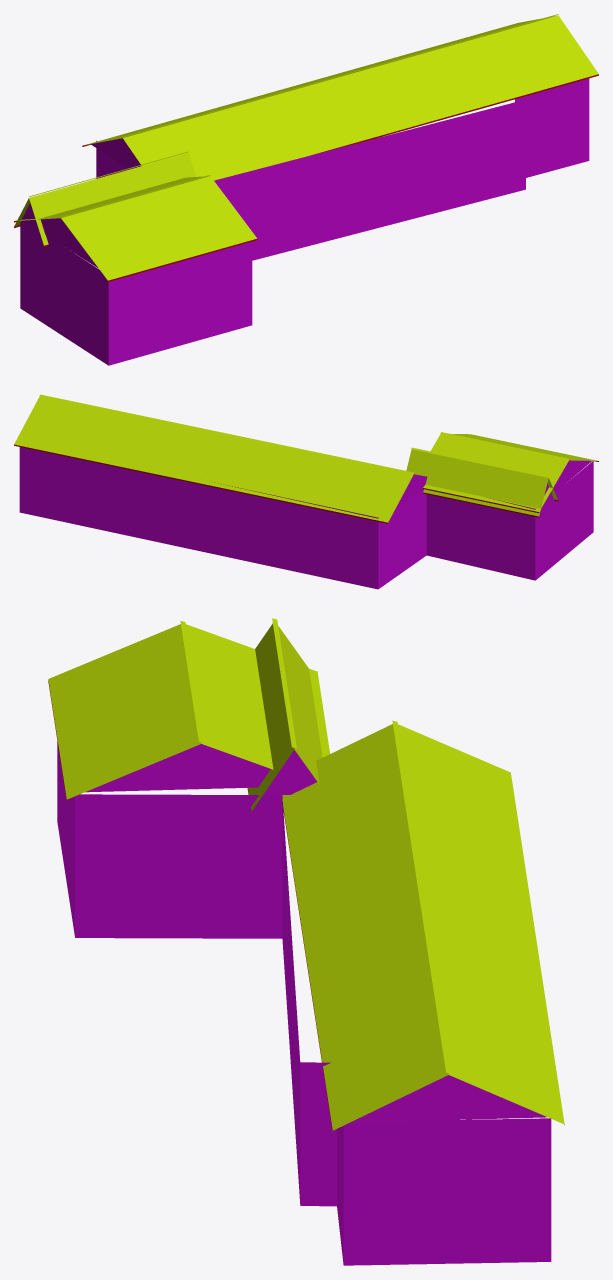
File: srz_32.glb
3 views of the same model, one above another, from view 1: azimuth 30°, elevation 25°; view 2: azimuth 150°, elevation 25°; view 3: azimuth 270°, elevation 25° (orthographic). The views are drawn at different scales.
Parts seen in each view (by area): view 1: srz_32; view 2: srz_32; view 3: srz_32.
Part boxes in pixels (x1=…): srz_32: x1=14, y1=14, x2=598, y2=365; srz_32: x1=14, y1=394, x2=598, y2=589; srz_32: x1=48, y1=618, x2=564, y2=1265.
Size of the model in its own units: 50.3 by 9.96 by 23.93.
